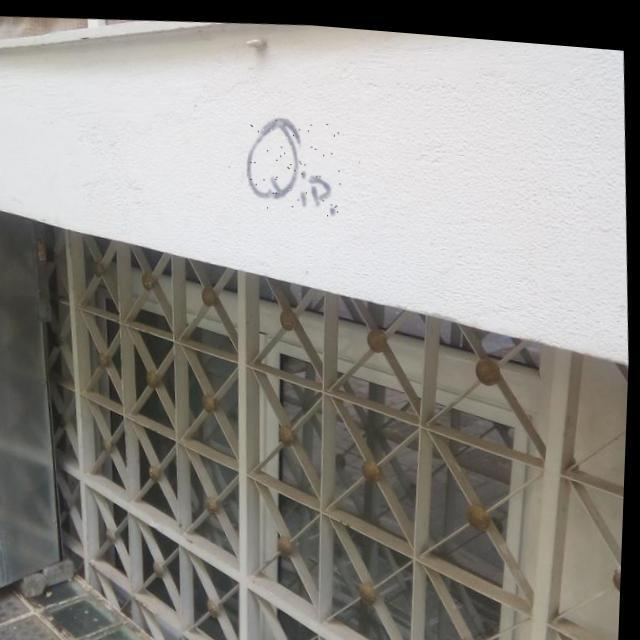-: (245, 109, 348, 216)
